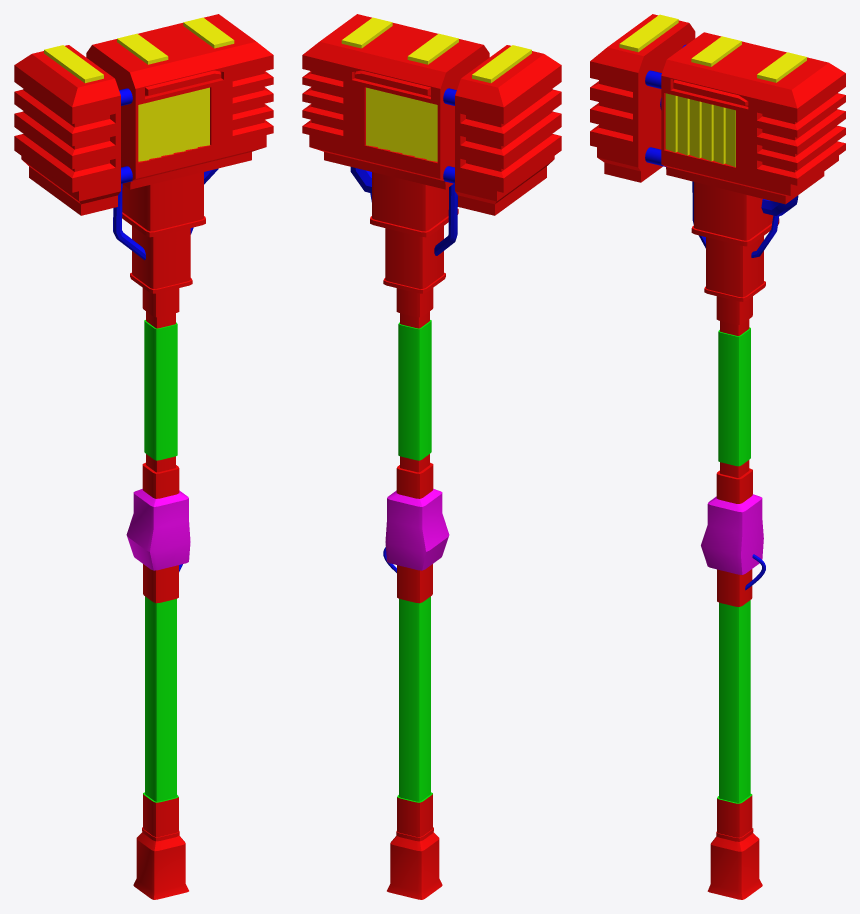
The model's file is SM_hammer.FBX.
3 renders of one model, left to right at view 1: azimuth 30°, elevation 25°; view 2: azimuth 150°, elevation 25°; view 3: azimuth 330°, elevation 25°, orthographic.
Parts seen in each view (by area): view 1: Hammer; view 2: Hammer; view 3: Hammer.
Boxes of the visible parts, bbox=[...] form: Hammer: bbox=[14, 14, 273, 899]; Hammer: bbox=[302, 14, 561, 899]; Hammer: bbox=[590, 14, 845, 899].
Bounding box in the file's own units: 35.56 × 140 × 17.3.
